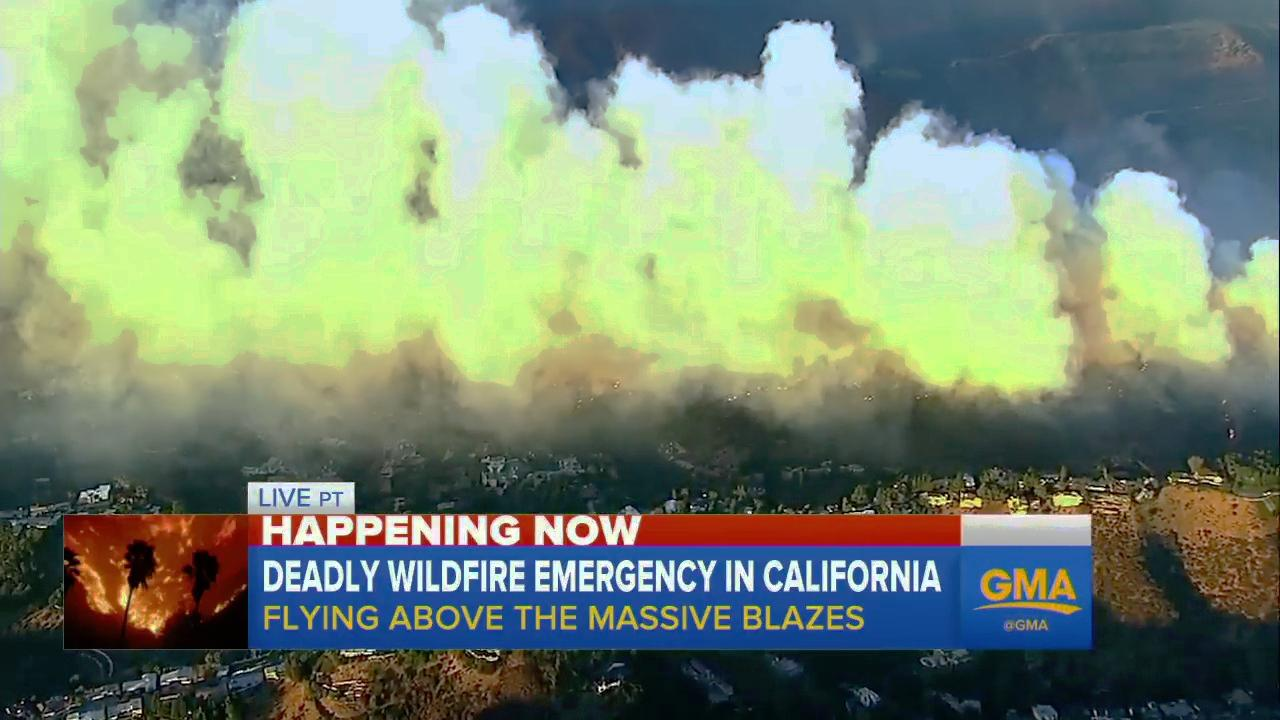smoke: (0, 0, 1278, 411), (207, 7, 574, 409), (575, 19, 872, 411), (0, 6, 202, 409), (872, 101, 1072, 390), (1075, 156, 1229, 378)
